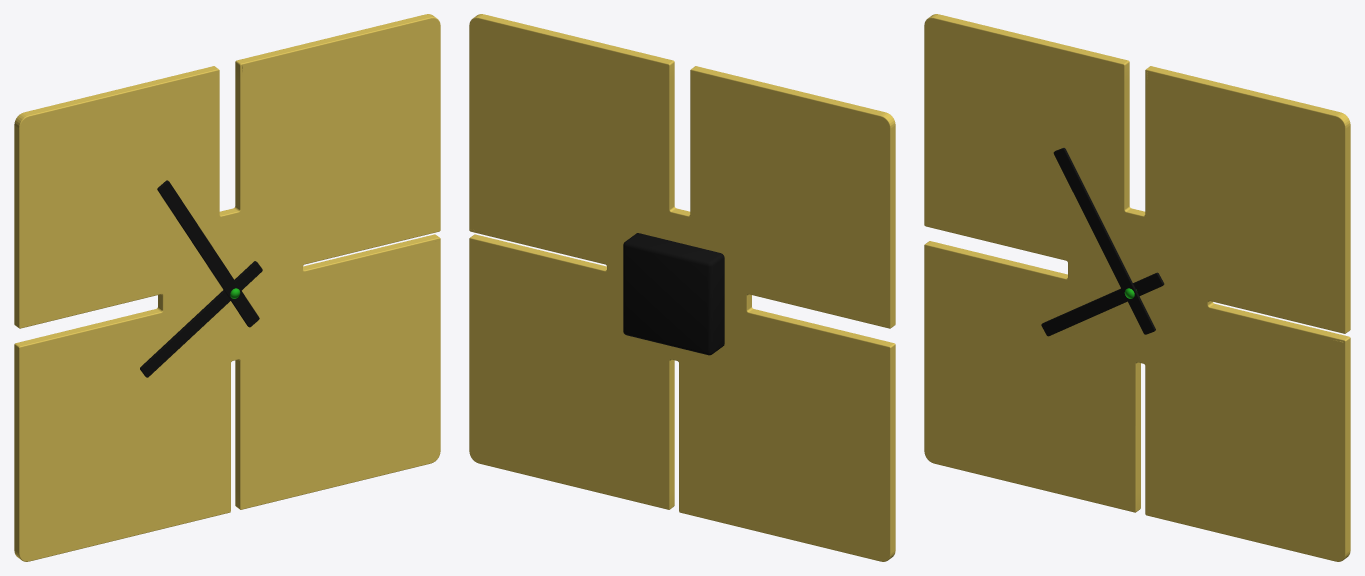
File: clock.obj
3 views of the same model, side by side, from view 1: azimuth 30°, elevation 25°; view 2: azimuth 150°, elevation 25°; view 3: azimuth 330°, elevation 25° (orthographic).
Parts seen in each view (by area): view 1: Rectangle001, Rectangle003, Rectangle002; view 2: Rectangle001, ChamferBox001; view 3: Rectangle001, Rectangle003, Rectangle002.
Part boxes in pixels (left/top/right/bottom): Rectangle001: left=14, top=14, right=440, bottom=561; Rectangle003: left=157, top=180, right=259, bottom=327; Rectangle002: left=140, top=261, right=262, bottom=377; Rectangle001: left=469, top=14, right=895, bottom=561; ChamferBox001: left=623, top=233, right=724, bottom=355; Rectangle001: left=924, top=14, right=1350, bottom=561; Rectangle003: left=1053, top=148, right=1155, bottom=334; Rectangle002: left=1041, top=272, right=1164, bottom=336.
Size of the model in its own units: 23.57 by 23.83 by 2.39.
